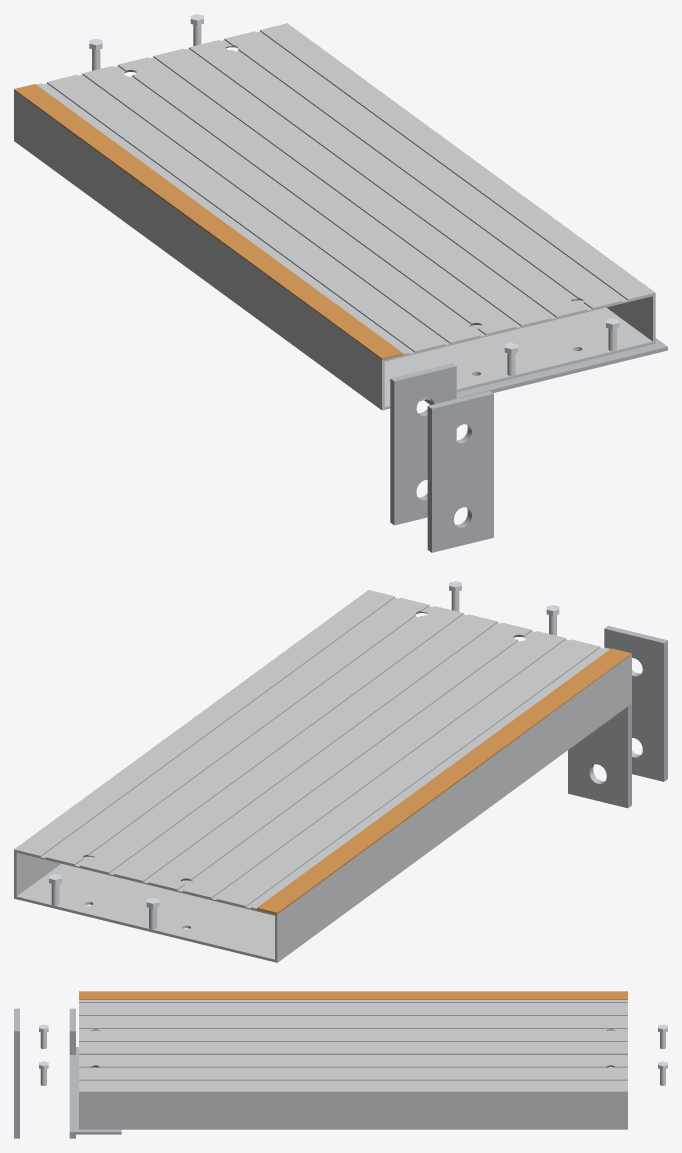
Rendered from car_B0_0.glb.
3 views of the same model, one above another, from view 1: azimuth 30°, elevation 25°; view 2: azimuth 150°, elevation 25°; view 3: azimuth 270°, elevation 25° (orthographic). The views are drawn at different scales.
Visible parts, largest first — view 1: =>[0:1:1:8], =>[0:1:1:6], =>[0:1:1:10], =>[0:1:1:5]; view 2: =>[0:1:1:8], =>[0:1:1:10], =>[0:1:1:6], =>[0:1:1:5]; view 3: =>[0:1:1:8], =>[0:1:1:10], =>[0:1:1:5], =>[0:1:1:6].
Part boxes in pixels (x1,y1,x2,y2): =>[0:1:1:8]: (14,23,655,410); =>[0:1:1:6]: (427,390,493,552); =>[0:1:1:10]: (14,84,403,359); =>[0:1:1:5]: (390,338,667,525); =>[0:1:1:8]: (14,590,631,962); =>[0:1:1:10]: (257,648,631,914); =>[0:1:1:6]: (604,625,667,781); =>[0:1:1:5]: (568,703,631,808); =>[0:1:1:8]: (79,1000,627,1129); =>[0:1:1:10]: (79,991,627,999); =>[0:1:1:5]: (69,1008,121,1138); =>[0:1:1:6]: (14,1008,19,1138).
Bounding box in the file's own units: 0.315 × 0.1808 × 0.8555.
